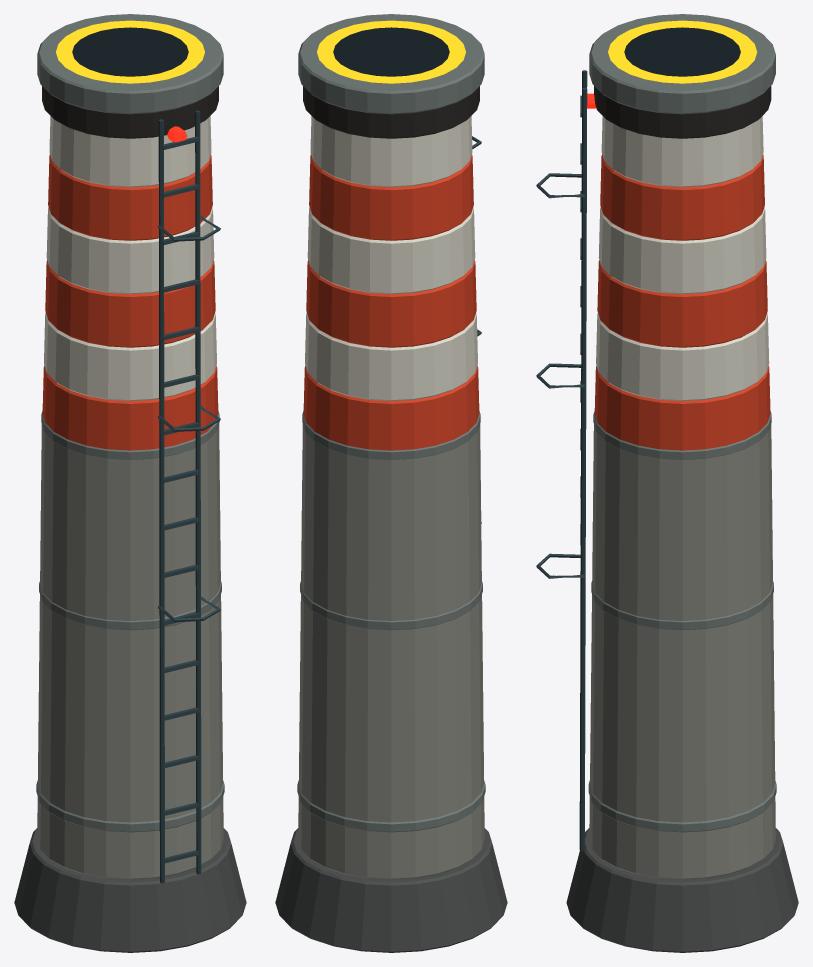
Rendered from chimney.glb.
3 views of the same model, side by side, from view 1: azimuth 30°, elevation 25°; view 2: azimuth 150°, elevation 25°; view 3: azimuth 270°, elevation 25° (orthographic).
Visible parts, largest first — view 1: chimney__chimney__concrete, chimney__chimney__danger, chimney__chimney__ivory, chimney__chimney__concrete-dark, chimney__chimney__hardware, chimney__chimney__steel, chimney__chimney__rubber, chimney__chimney__soot, chimney__chimney__molten; view 2: chimney__chimney__concrete, chimney__chimney__danger, chimney__chimney__ivory, chimney__chimney__concrete-dark, chimney__chimney__hardware, chimney__chimney__rubber, chimney__chimney__soot, chimney__chimney__molten; view 3: chimney__chimney__concrete, chimney__chimney__danger, chimney__chimney__ivory, chimney__chimney__concrete-dark, chimney__chimney__hardware, chimney__chimney__steel, chimney__chimney__rubber, chimney__chimney__soot, chimney__chimney__molten.
Boxes of the visible parts, box(x1,y1,x2,y2) form: chimney__chimney__concrete: box(37, 424, 223, 879); chimney__chimney__danger: box(42, 154, 218, 450); chimney__chimney__ivory: box(44, 116, 216, 401); chimney__chimney__concrete-dark: box(14, 828, 246, 952); chimney__chimney__hardware: box(36, 14, 224, 832); chimney__chimney__steel: box(157, 110, 220, 883); chimney__chimney__rubber: box(72, 27, 188, 76); chimney__chimney__soot: box(42, 86, 218, 138); chimney__chimney__molten: box(56, 20, 204, 83); chimney__chimney__concrete: box(298, 424, 484, 879); chimney__chimney__danger: box(303, 154, 479, 450); chimney__chimney__ivory: box(305, 116, 477, 401); chimney__chimney__concrete-dark: box(275, 828, 507, 952); chimney__chimney__hardware: box(297, 14, 485, 832); chimney__chimney__rubber: box(333, 27, 449, 76); chimney__chimney__soot: box(303, 86, 479, 138); chimney__chimney__molten: box(317, 20, 465, 83); chimney__chimney__concrete: box(589, 424, 775, 879); chimney__chimney__danger: box(594, 154, 770, 450); chimney__chimney__ivory: box(596, 116, 769, 401); chimney__chimney__concrete-dark: box(566, 828, 798, 952); chimney__chimney__hardware: box(588, 14, 776, 832); chimney__chimney__steel: box(536, 70, 587, 850); chimney__chimney__rubber: box(624, 27, 740, 76); chimney__chimney__soot: box(594, 86, 771, 138); chimney__chimney__molten: box(608, 20, 756, 83).
Size of the model in its own units: 1.99 by 8.06 by 2.25.
